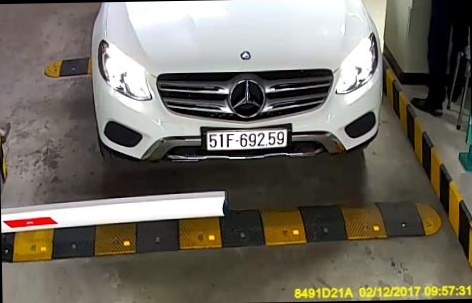plate: (204, 127, 292, 152)
